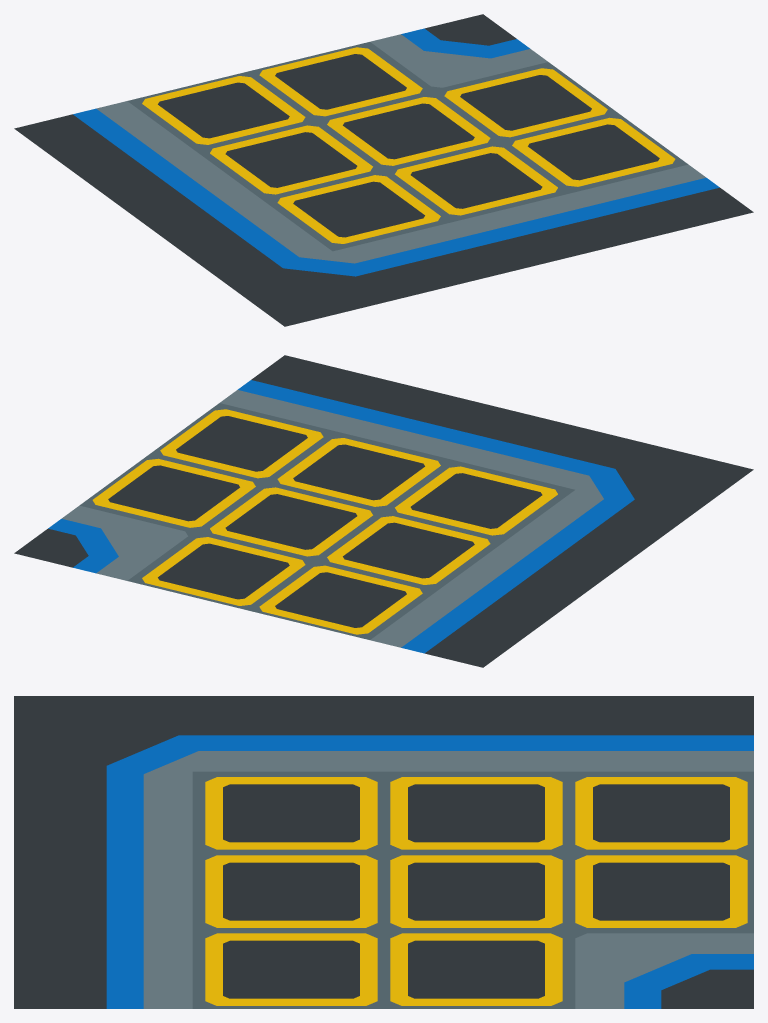
The model's file is Floor_type_C_005.glb.
The picture shows the model from 3 angles, top to bottom: view 1: azimuth 30°, elevation 25°; view 2: azimuth 150°, elevation 25°; view 3: azimuth 270°, elevation 25°; orthographic projection. The views are drawn at different scales.
Visible parts, largest first — view 1: Floor_type_C_005; view 2: Floor_type_C_005; view 3: Floor_type_C_005.
Part boxes in pixels (x1,y1,x2,y2): Floor_type_C_005: (14,14,753,326); Floor_type_C_005: (14,355,753,667); Floor_type_C_005: (14,696,753,1008).
Bounding box in the file's own units: 4 × 0 × 4.
2 materials, 2 textured.
